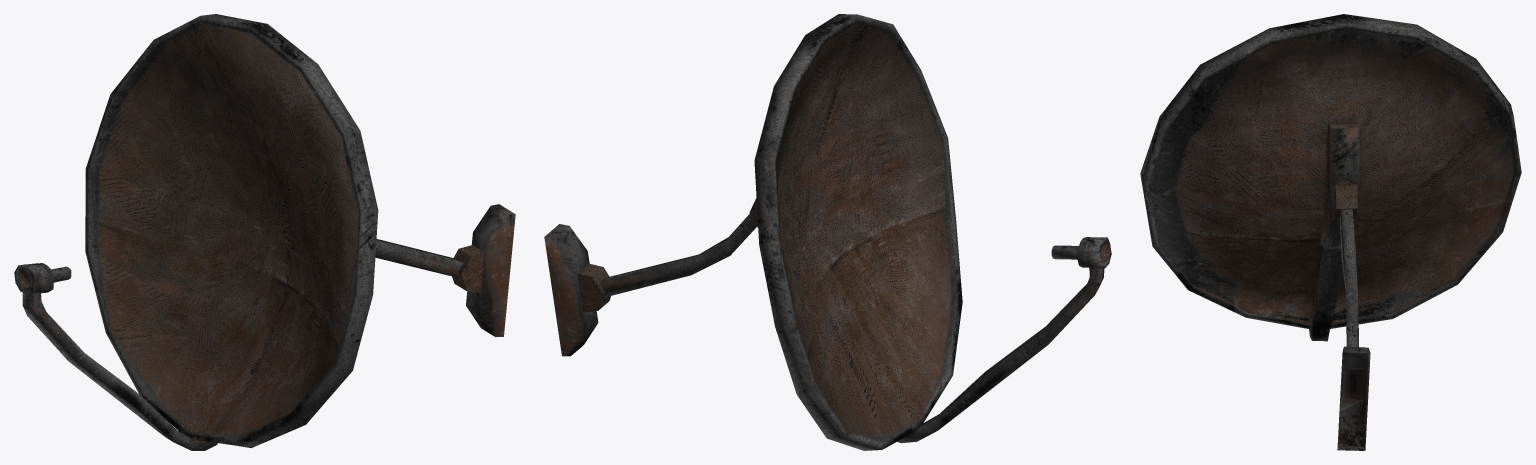
The model's file is Dish.fbx.
3 views of the same model, side by side, from view 1: azimuth 30°, elevation 25°; view 2: azimuth 150°, elevation 25°; view 3: azimuth 270°, elevation 25° (orthographic). The views are drawn at different scales.
Visible parts, largest first — view 1: Mesh1; view 2: Mesh1; view 3: Mesh1.
Part boxes in pixels (x1=…): Mesh1: x1=14, y1=14, x2=515, y2=450; Mesh1: x1=544, y1=14, x2=1111, y2=450; Mesh1: x1=1140, y1=14, x2=1521, y2=450.
Bounding box in the file's own units: 122 × 89.1 × 87.44.
